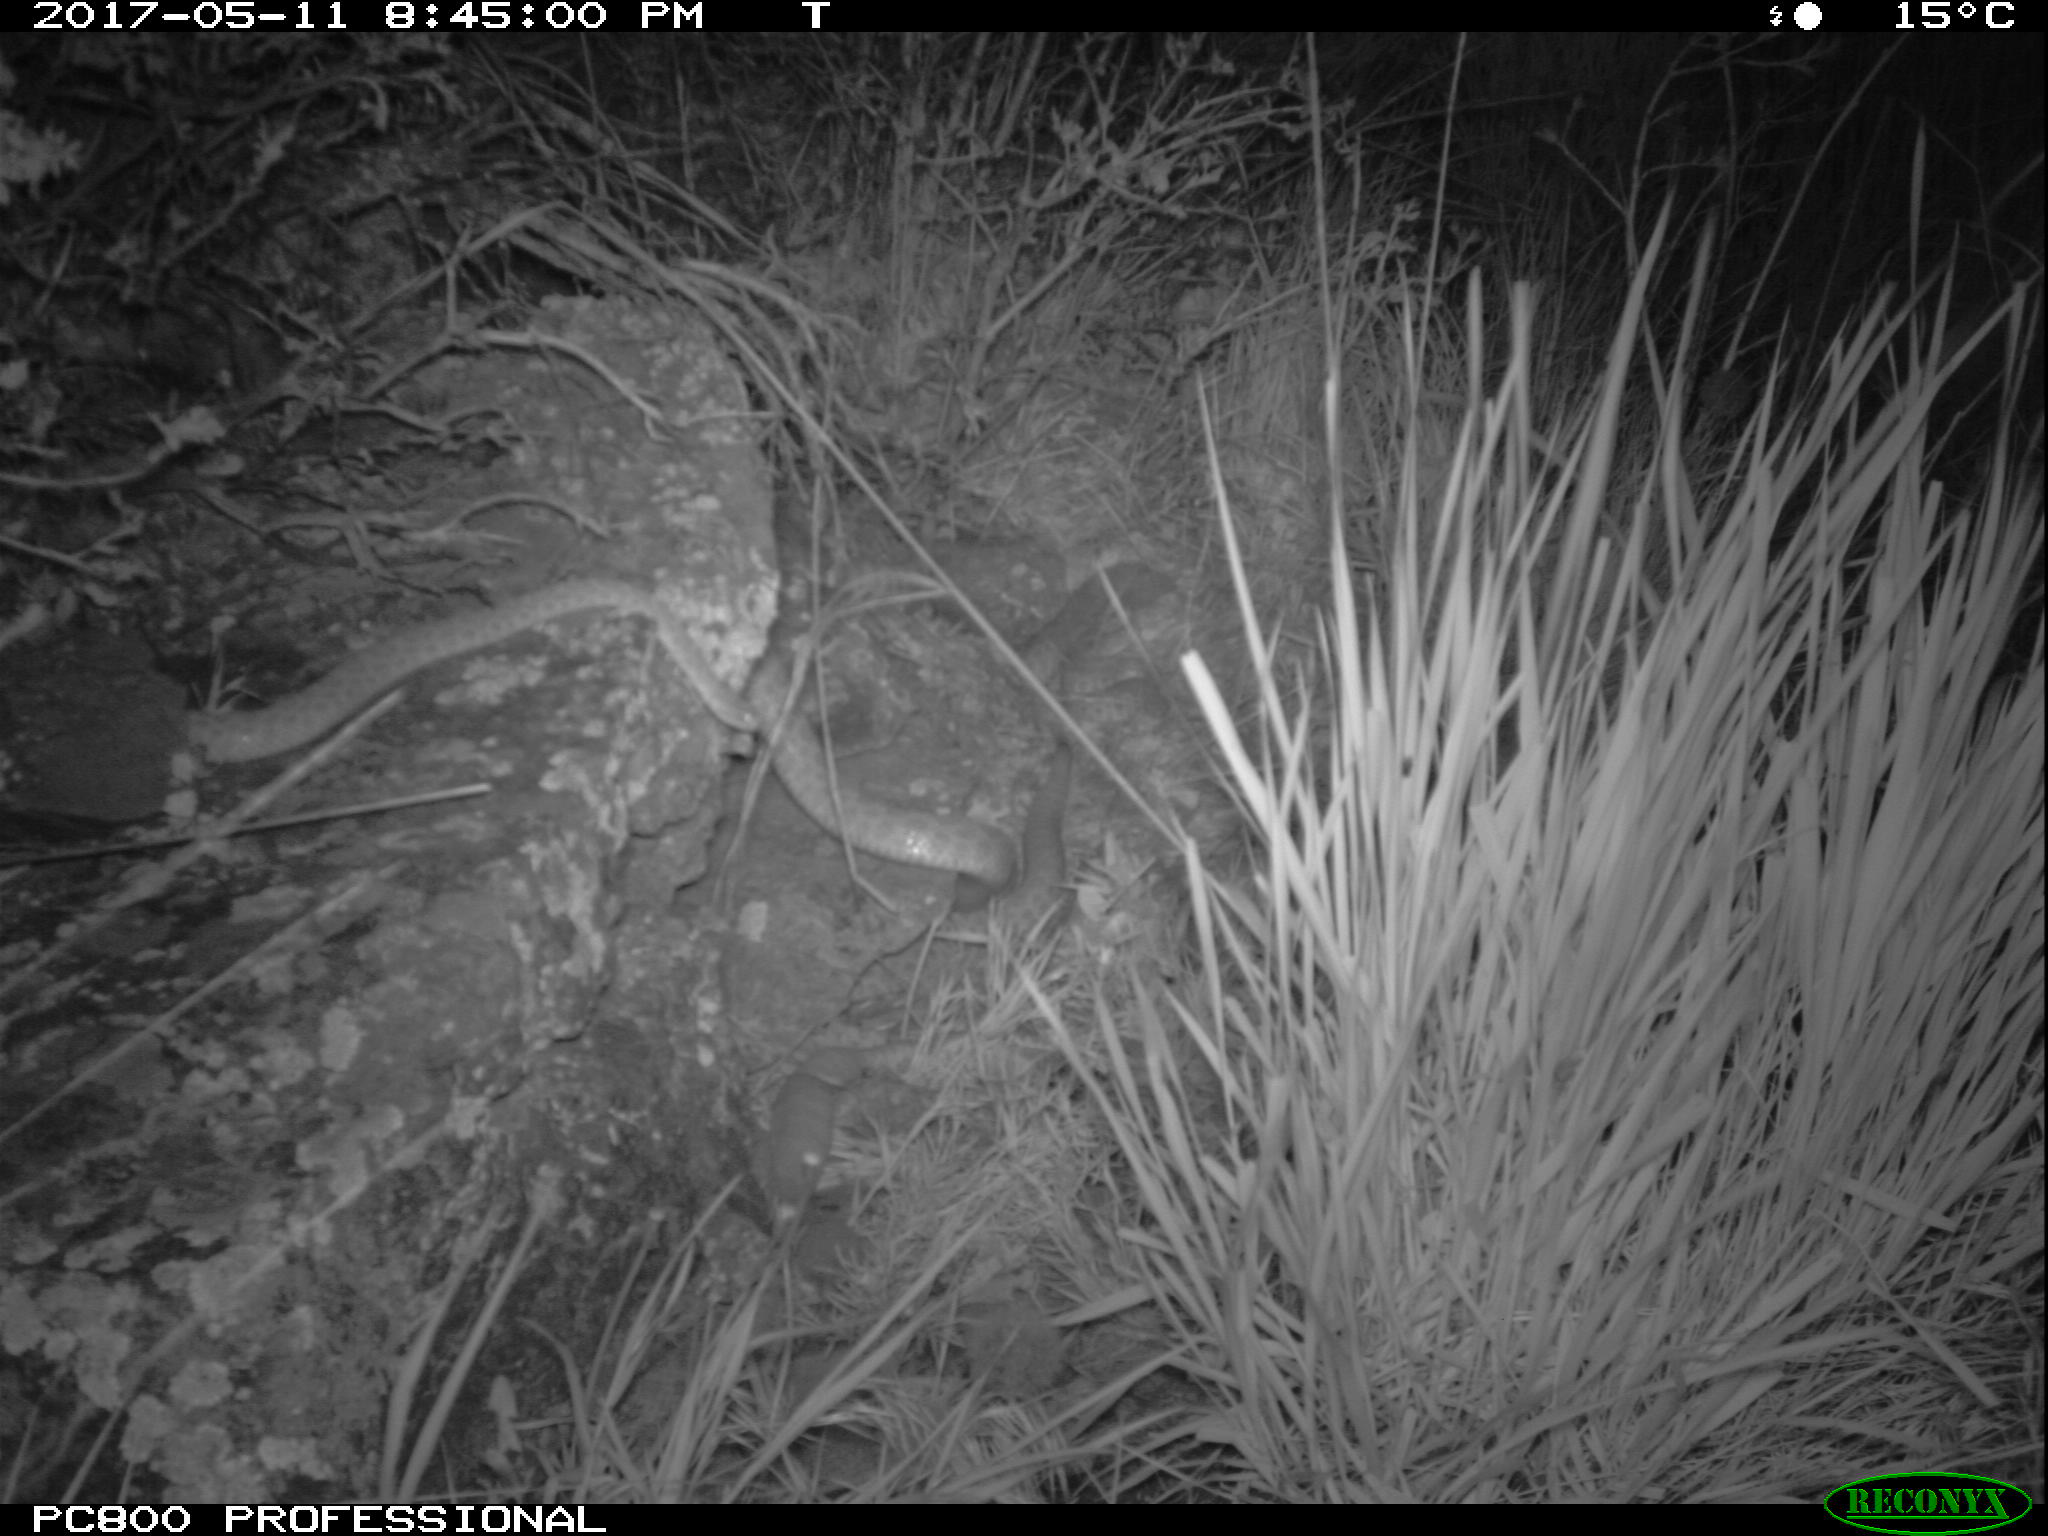snake: (177, 574, 758, 763), (755, 658, 1022, 905), (1021, 731, 1074, 920)
